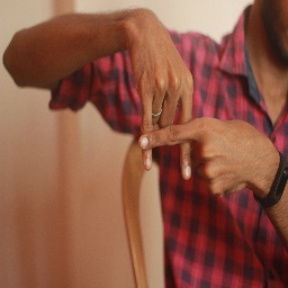H: (110, 79, 225, 186)
